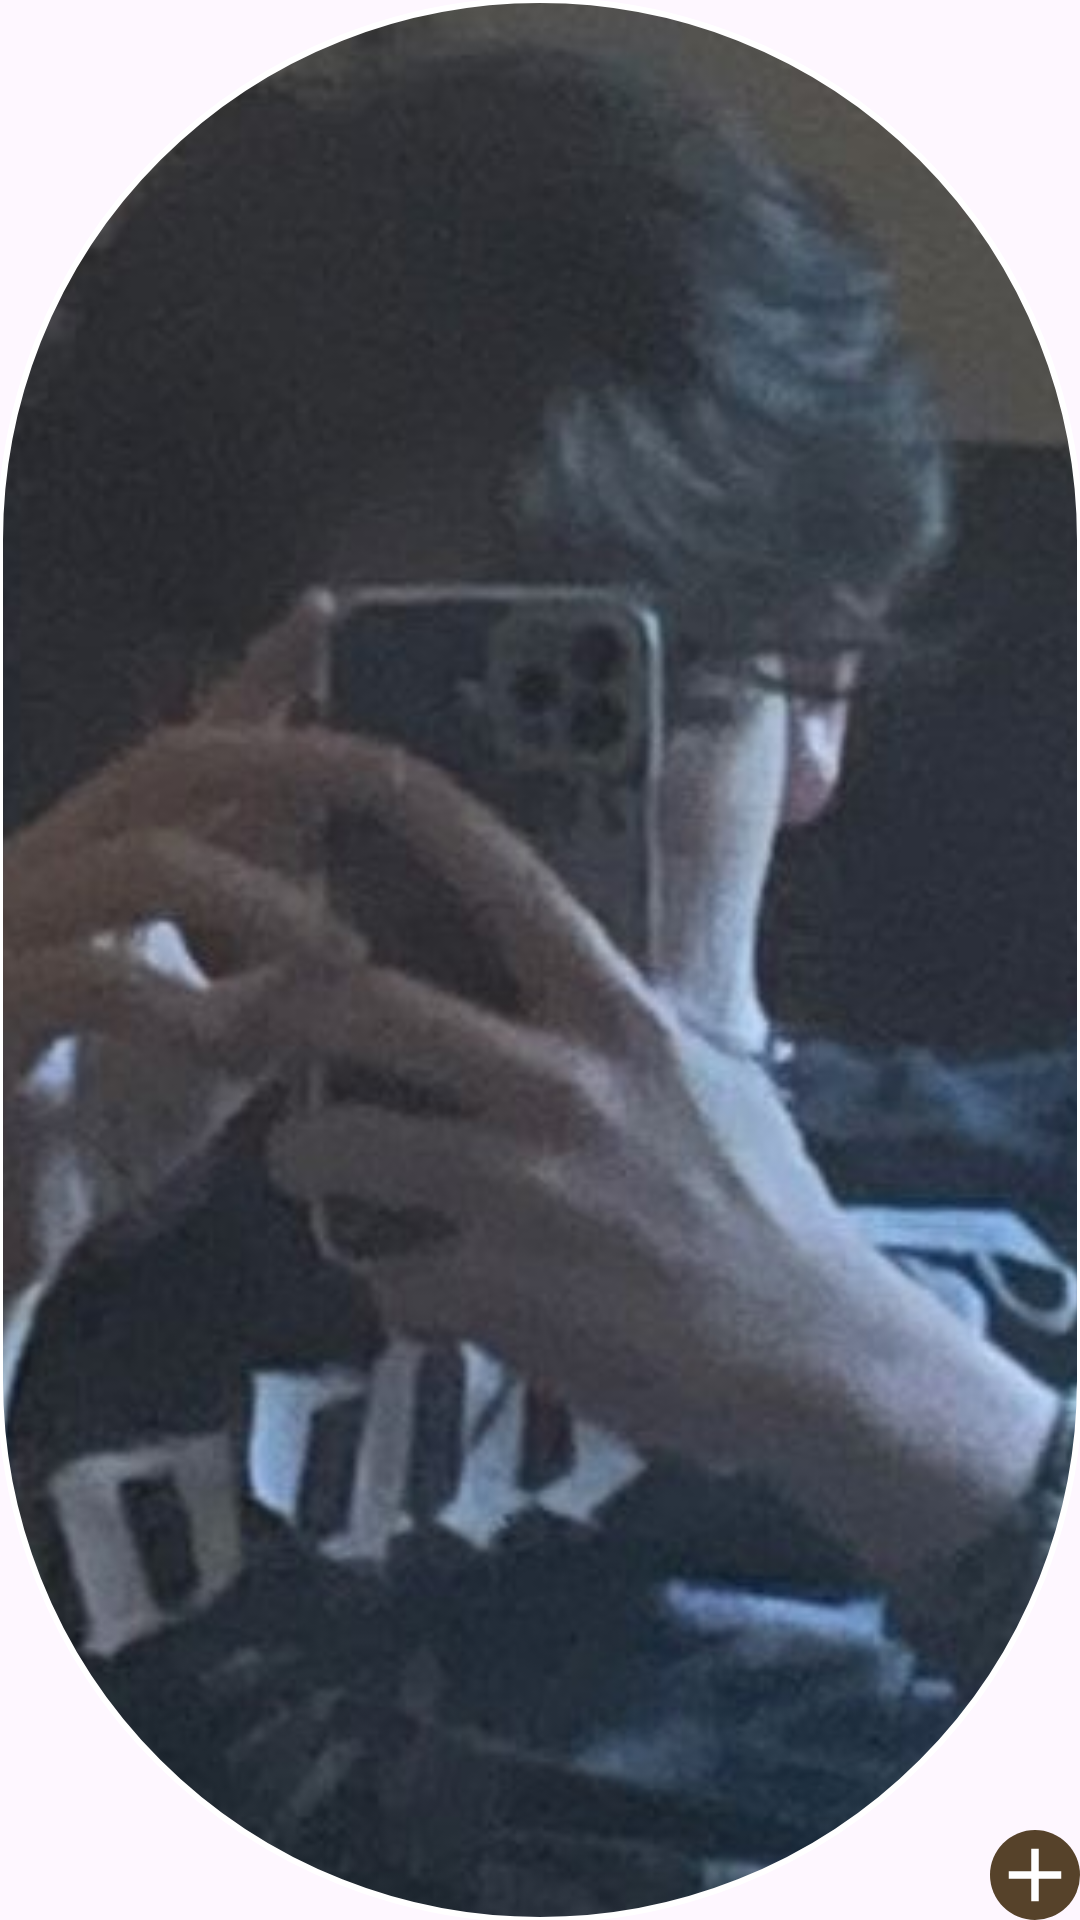

Named icons in this screenshot (1080 x 1920) and their centers, (x,y):
add symbol: (1035,1875)
